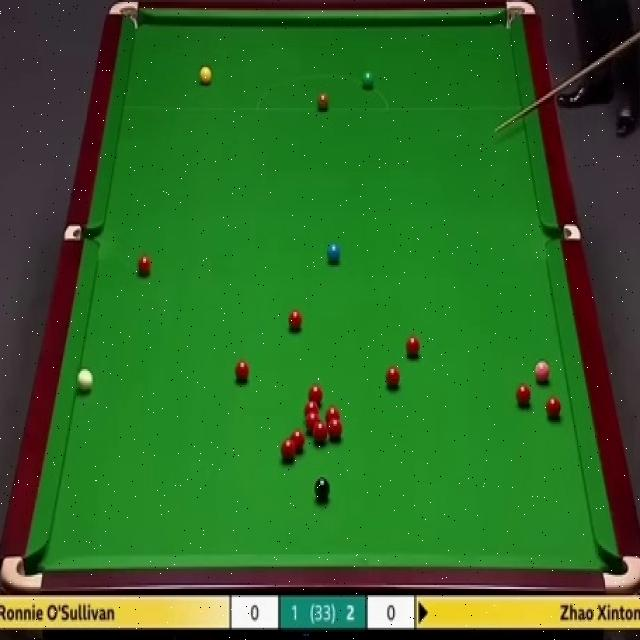black-ball: (313, 477, 331, 499)
blue-ball: (326, 242, 342, 265)
brown-ball: (316, 92, 329, 112)
green-ball: (363, 68, 374, 90)
pink-ball: (533, 360, 552, 384)
red-ball: (516, 381, 531, 408), (404, 334, 421, 357), (545, 395, 561, 419), (329, 416, 343, 442), (288, 308, 303, 332), (290, 429, 305, 453), (234, 359, 250, 381), (282, 437, 296, 462), (314, 421, 328, 444), (137, 255, 152, 276), (385, 366, 399, 388), (308, 384, 322, 406), (306, 412, 319, 433), (303, 401, 319, 418), (325, 404, 341, 420)
white-ball: (76, 368, 93, 393)
yellow-ball: (199, 66, 211, 87)
